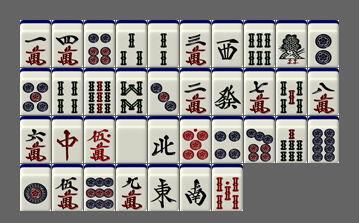0m: (84, 116, 115, 163)
0p: (180, 116, 211, 163)
0s: (212, 164, 243, 211)
1m: (20, 20, 51, 67)
1p: (20, 164, 51, 211)
1s: (276, 20, 307, 67)
1z: (148, 164, 179, 211)
2m: (180, 68, 211, 115)
2p: (308, 20, 339, 67)
2s: (148, 20, 179, 67)
2z: (180, 164, 211, 211)
3m: (180, 20, 211, 67)
3p: (148, 68, 179, 115)
3s: (116, 20, 147, 67)
3z: (212, 20, 243, 67)
4m: (52, 20, 83, 67)
4p: (212, 116, 243, 163)
4s: (52, 68, 83, 115)
4z: (148, 116, 179, 163)
5m: (52, 164, 83, 211)
5p: (20, 68, 51, 115)
5s: (276, 68, 307, 115)
5z: (116, 116, 147, 163)
6m: (20, 116, 51, 163)
6p: (84, 20, 115, 67)
6s: (244, 20, 275, 67)
6z: (212, 68, 243, 115)
7m: (244, 68, 275, 115)
7p: (244, 116, 275, 163)
7s: (276, 116, 307, 163)
7z: (52, 116, 83, 163)
8m: (308, 68, 339, 115)
8p: (308, 116, 339, 163)
8s: (116, 68, 147, 115)
9m: (116, 164, 147, 211)
9p: (84, 164, 115, 211)
9s: (84, 68, 115, 115)
